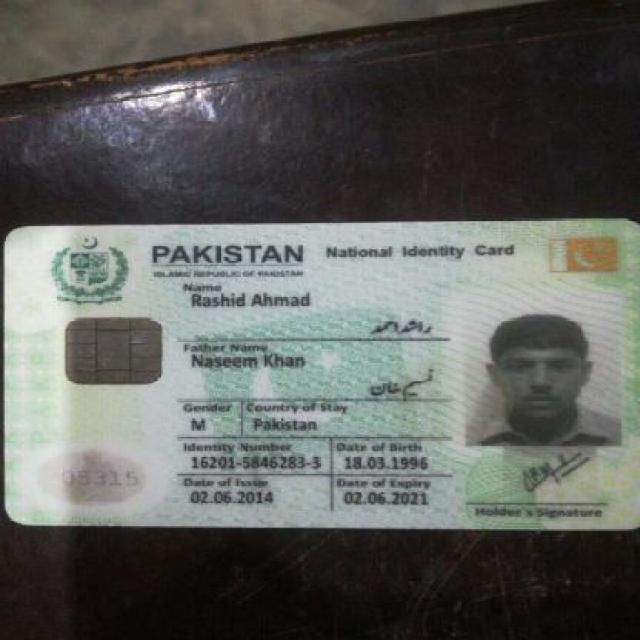Front: (3, 215, 637, 536)
